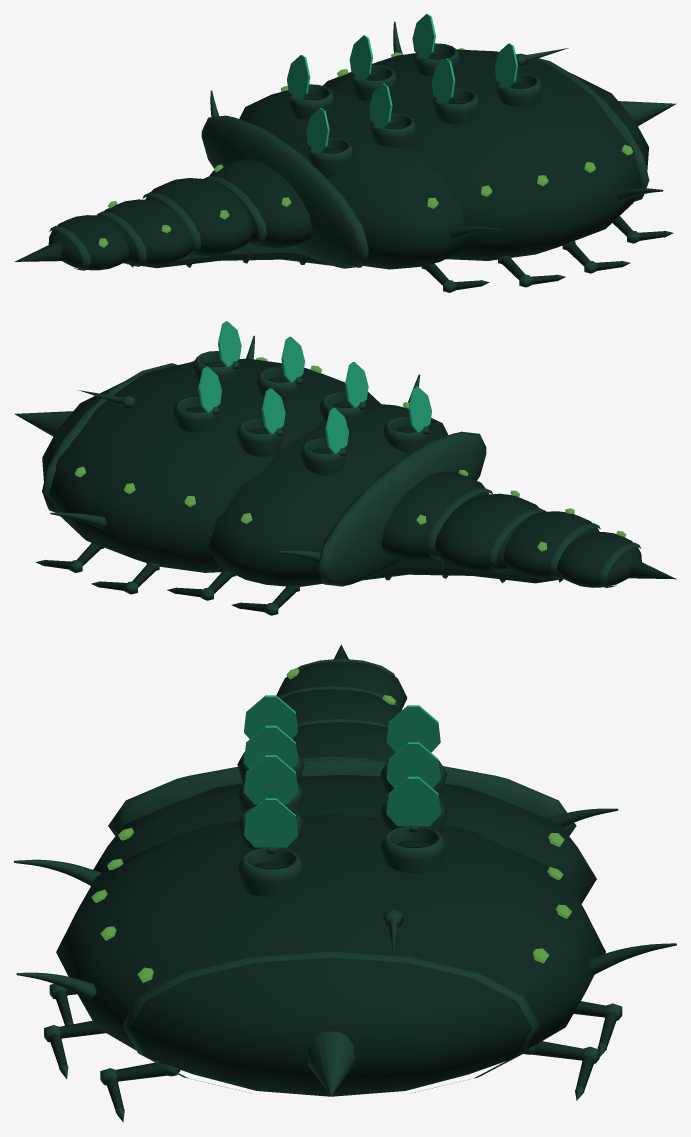
The model's file is thurible-pelagia.glb.
The picture shows the model from 3 angles, top to bottom: view 1: azimuth 30°, elevation 25°; view 2: azimuth 150°, elevation 25°; view 3: azimuth 270°, elevation 25°; orthographic projection. The views are drawn at different scales.
Visible parts, largest first — view 1: lobe_5, lobe_4, lobe_rim_4, lobe_3, lobe_2, lobe_1, lobe_0, keel, lobe_ring_5, cell_s3_cup, cell_s1_cup, cell_s2_cup (+17 smaller); view 2: lobe_5, lobe_4, lobe_rim_4, lobe_2, lobe_3, lobe_1, lobe_0, keel, lobe_ring_5, cell_p1_cup, cell_p2_cup, cell_p0_cup (+17 smaller); view 3: lobe_5, lobe_4, lobe_rim_4, lobe_ring_5, lobe_2, lobe_1, lobe_0, cell_s0_cup, cell_p0_cup, cell_p0_lid, rostrum, cell_s0_lid (+8 smaller).
Boxes of the visible parts, <box> form: lobe_5: <box>322,49,648,260</box>; lobe_4: <box>239,87,466,269</box>; lobe_rim_4: <box>201,115,368,268</box>; lobe_3: <box>209,159,312,248</box>; lobe_2: <box>145,178,252,255</box>; lobe_1: <box>100,199,193,266</box>; lobe_0: <box>48,215,129,270</box>; keel: <box>123,243,332,268</box>; lobe_ring_5: <box>521,53,649,201</box>; cell_s3_cup: <box>307,137,354,178</box>; cell_s1_cup: <box>433,88,480,124</box>; cell_s2_cup: <box>370,113,417,148</box>; lobe_5: <box>42,358,380,572</box>; lobe_4: <box>209,403,448,586</box>; lobe_rim_4: <box>317,431,486,586</box>; lobe_2: <box>435,493,538,572</box>; lobe_3: <box>382,471,489,560</box>; lobe_1: <box>503,511,599,578</box>; lobe_0: <box>557,532,641,587</box>; keel: <box>363,559,563,583</box>; lobe_ring_5: <box>42,363,177,512</box>; cell_p1_cup: <box>236,418,284,456</box>; cell_p2_cup: <box>300,437,347,475</box>; cell_p0_cup: <box>173,396,220,432</box>; lobe_5: <box>56,814,605,1096</box>; lobe_4: <box>93,775,596,903</box>; lobe_rim_4: <box>108,759,576,835</box>; lobe_ring_5: <box>122,951,539,1093</box>; lobe_2: <box>292,722,395,760</box>; lobe_1: <box>281,689,401,725</box>; lobe_0: <box>276,661,407,708</box>; cell_s0_cup: <box>237,847,304,896</box>; cell_p0_cup: <box>380,826,446,873</box>; cell_p0_lid: <box>386,776,440,826</box>; rostrum: <box>307,1031,354,1095</box>; cell_s0_lid: <box>244,798,297,847</box>.
Size of the model in its own units: 105 by 31.93 by 65.08.
